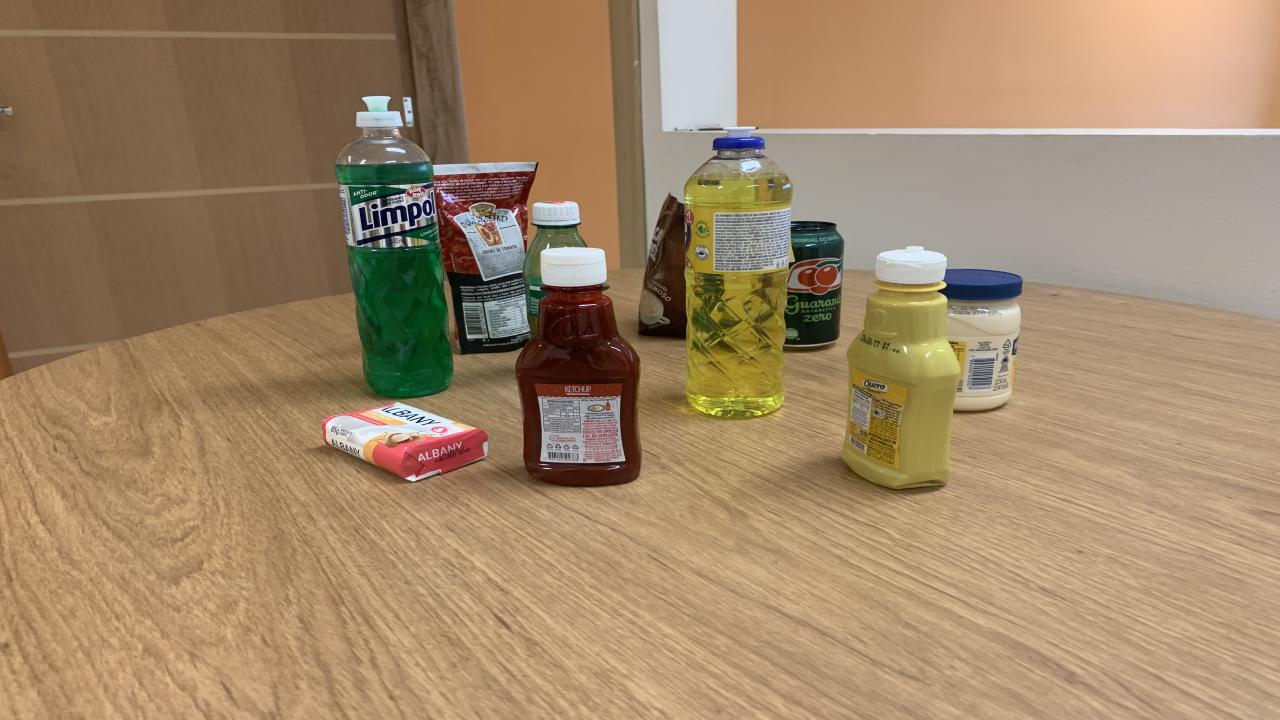Coffee-Pantry_Items: (638, 195, 688, 338)
Detergent-Cleanup_Items: (335, 96, 452, 398), (685, 128, 792, 418)
Guarana-Drinks: (522, 201, 585, 338)
Guarana_Can-Drinks: (785, 221, 845, 349)
Ketchup-Pantry_Items: (515, 248, 642, 486)
Mayonnaise-Pantry_Items: (942, 270, 1022, 411)
Mustard-Pantry_Items: (842, 246, 960, 489)
Soap-Cleanup_Items: (322, 403, 488, 482)
Tomato_Sauce-Pantry_Items: (435, 163, 538, 354)
